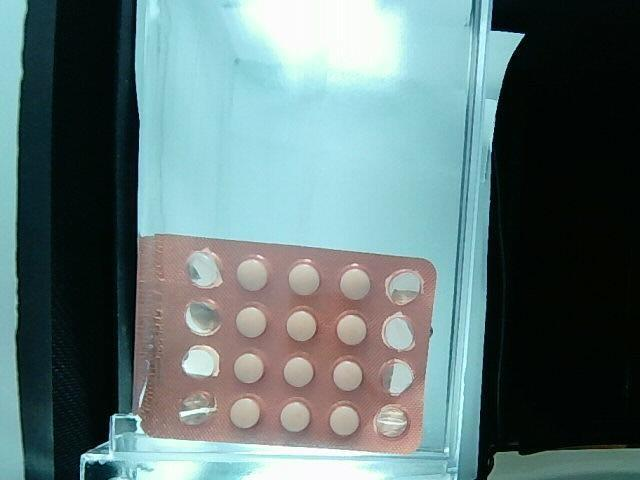Light Front: (134, 234, 438, 458)
No Pill Front: (185, 249, 222, 289), (185, 299, 221, 335), (179, 391, 217, 424), (383, 313, 416, 351), (386, 270, 422, 304), (181, 345, 218, 378), (381, 359, 414, 396), (375, 405, 407, 436)
Pill Front: (236, 255, 269, 290), (288, 259, 320, 295), (286, 306, 317, 341), (340, 265, 370, 299), (336, 313, 367, 345), (330, 403, 360, 436), (230, 396, 260, 427), (284, 356, 315, 386), (333, 359, 363, 390), (236, 306, 266, 336), (234, 353, 264, 383), (281, 403, 309, 432)
